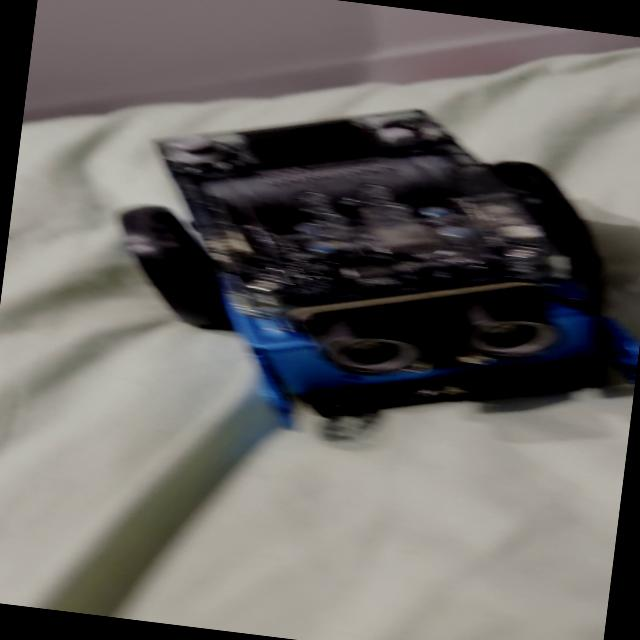mbot-detection: (75, 63, 640, 493)
